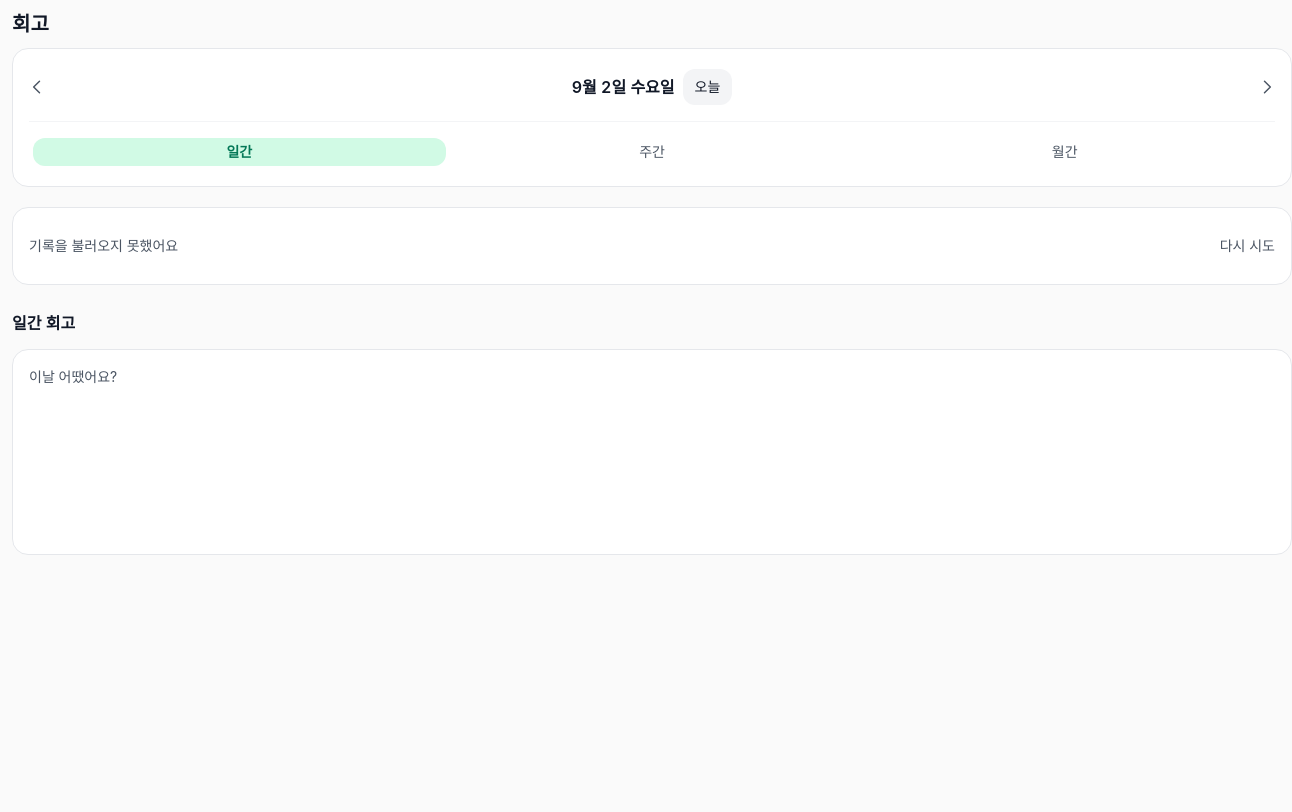
Scenario: ReviewPage › 지난 기간과 불러오기 실패 › 기록을 불러오지 못하면 빈 기록 대신 실패를 알리고 다시 시도할 수 있다
Expected: the text "기록을 불러오지 못했어요" is shown, [29,236,178,256]
Click the button "다시 시도".
click(1247, 246)  # box [1208,228,1287,264]
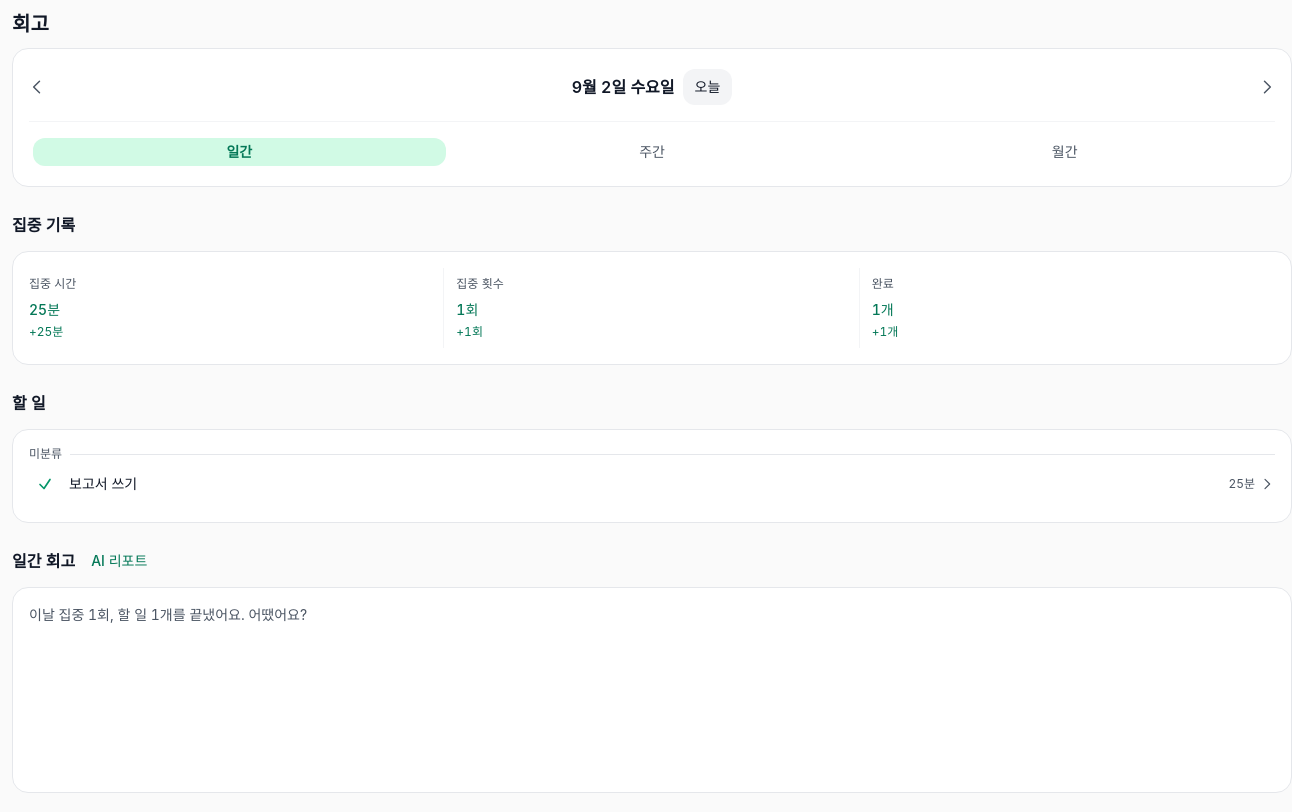
Expected: the text "1개" is shown, [872,301,894,318]
